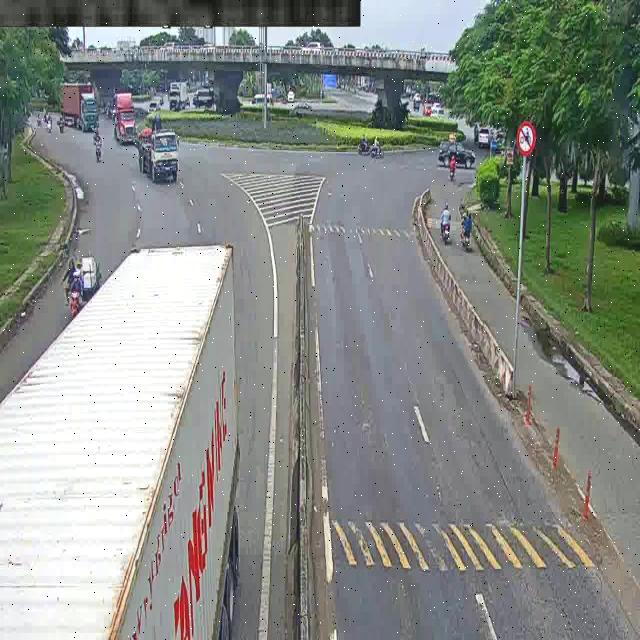car: (434, 139, 480, 173), (141, 94, 165, 116), (426, 105, 446, 118)
motorbike: (59, 256, 93, 315), (439, 201, 459, 238), (460, 213, 476, 249), (447, 151, 465, 183), (94, 130, 109, 168), (368, 138, 385, 164), (351, 132, 366, 157), (43, 115, 57, 132), (53, 116, 65, 133)
truck: (13, 234, 257, 640), (51, 82, 102, 132), (105, 94, 144, 154), (189, 85, 226, 112), (173, 77, 199, 112)
